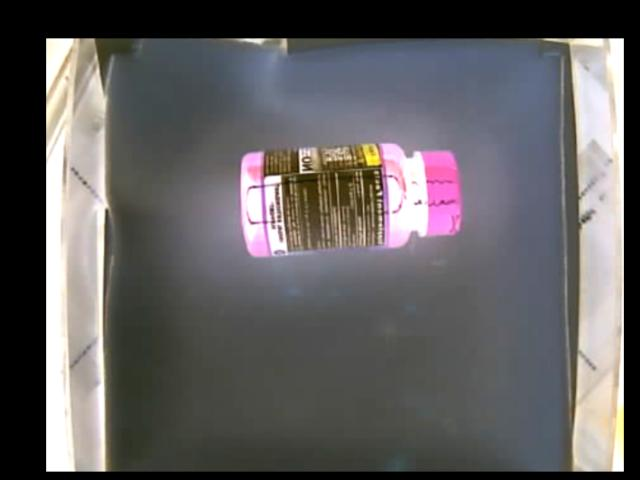Bottle: (237, 142, 456, 258)
